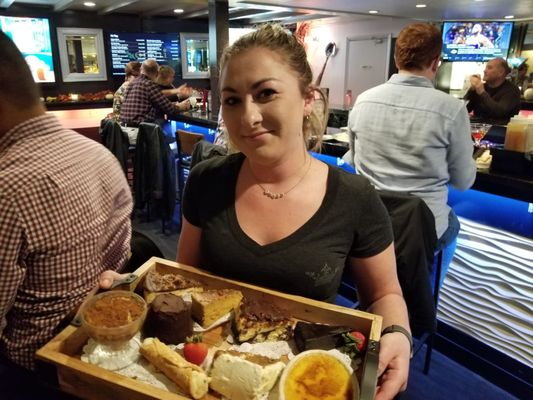soup: (189, 287, 244, 329)
sushi: (77, 290, 147, 341)
